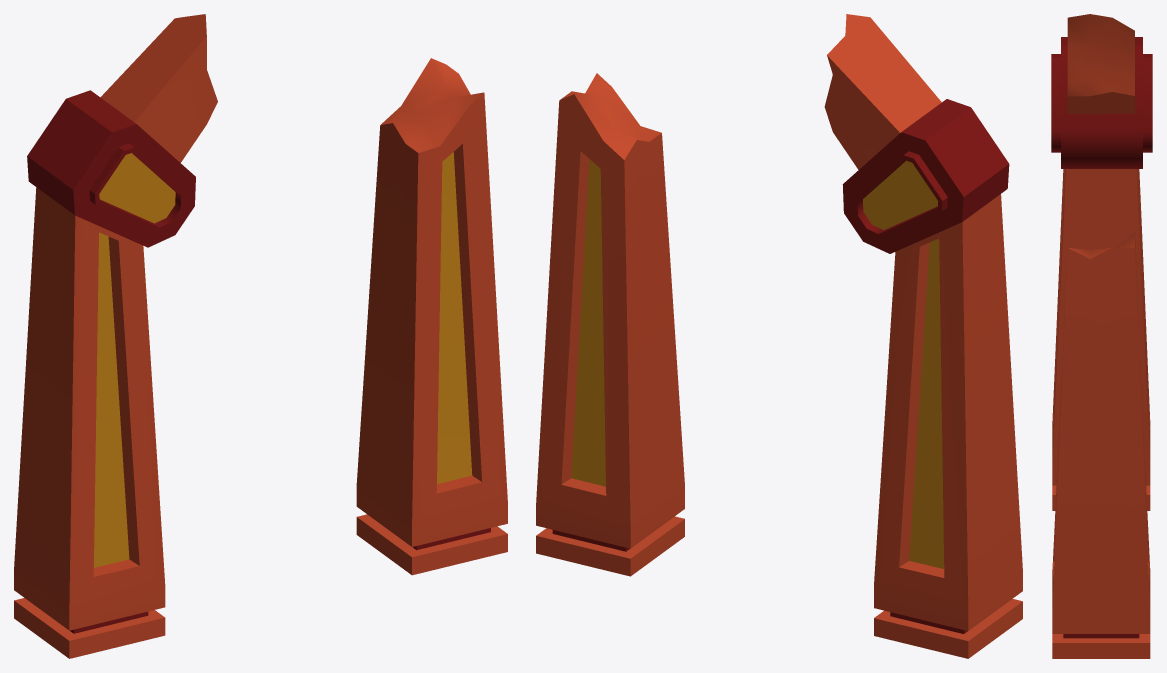
Rendered from BrokenArchWay.FBX.
The picture shows the model from 3 angles, left to right: view 1: azimuth 30°, elevation 25°; view 2: azimuth 150°, elevation 25°; view 3: azimuth 270°, elevation 25°; orthographic projection. The views are drawn at different scales.
Visible parts, largest first — view 1: TallDoor001; view 2: TallDoor001; view 3: TallDoor001.
Part boxes in pixels (left/top/right/bottom): TallDoor001: left=14, top=14, right=507, bottom=658; TallDoor001: left=536, top=14, right=1022, bottom=658; TallDoor001: left=1051, top=14, right=1152, bottom=658.
Bounding box in the file's own units: 102 × 132 × 23.02.
